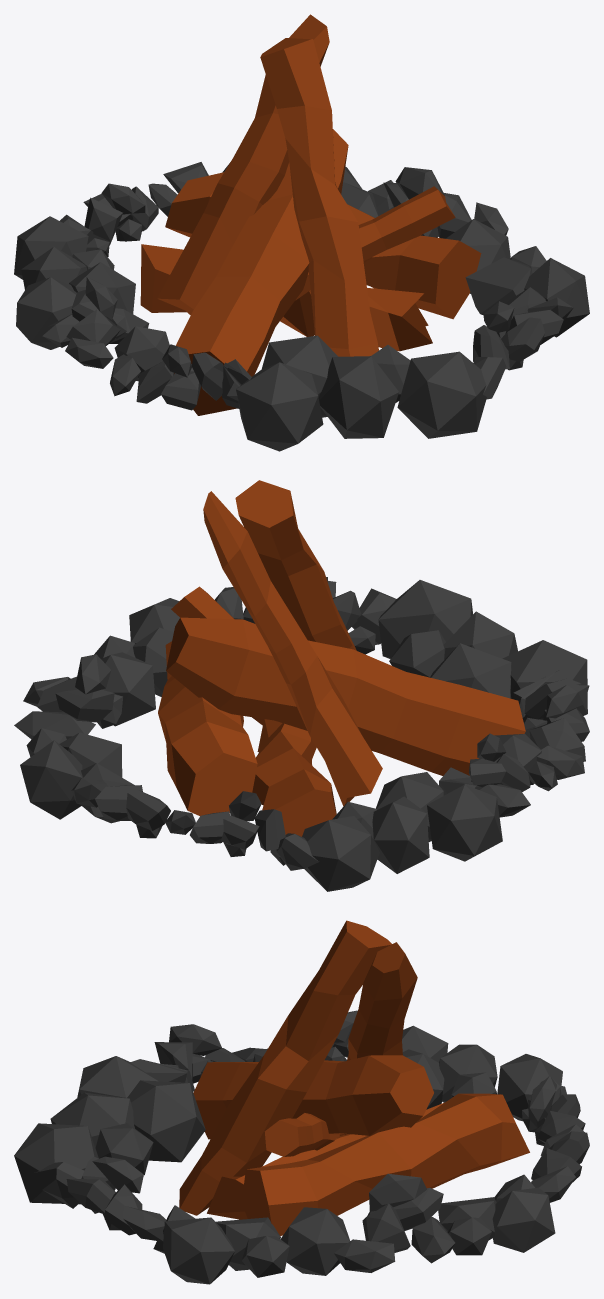
The model's file is Bonfire sola 1.fbx.
3 views of the same model, one above another, from view 1: azimuth 30°, elevation 25°; view 2: azimuth 150°, elevation 25°; view 3: azimuth 270°, elevation 25° (orthographic). The views are drawn at different scales.
Visible parts, largest first — view 1: Hoguera; view 2: Hoguera; view 3: Hoguera.
Part boxes in pixels (left/top/right/bottom): Hoguera: left=14, top=14, right=589, bottom=451; Hoguera: left=14, top=480, right=589, bottom=891; Hoguera: left=14, top=920, right=589, bottom=1284.
Size of the model in its own units: 200 by 122 by 219.
